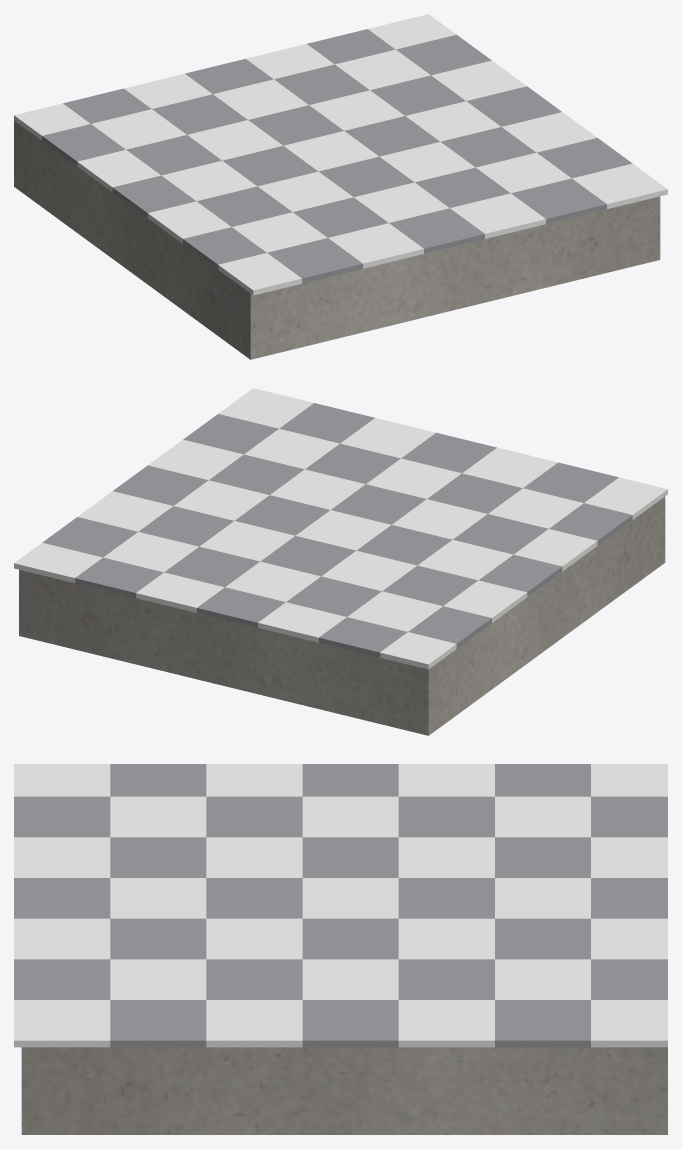
The model's file is floor_tile_g_e30_0_30_0.glb.
3 renders of one model, top to bottom at view 1: azimuth 30°, elevation 25°; view 2: azimuth 150°, elevation 25°; view 3: azimuth 270°, elevation 25°, orthographic. The views are drawn at different scales.
Parts seen in each view (by area): view 1: floor_tile_g_e30_0_30_0_tile, floor_tile_g_e30_0_30_0_slate, floor_tile_g_e30_0_30_0_concrete; view 2: floor_tile_g_e30_0_30_0_tile, floor_tile_g_e30_0_30_0_slate, floor_tile_g_e30_0_30_0_concrete; view 3: floor_tile_g_e30_0_30_0_tile, floor_tile_g_e30_0_30_0_slate, floor_tile_g_e30_0_30_0_concrete.
Boxes of the visible parts, box(x1,y1,x2,y2) form: floor_tile_g_e30_0_30_0_tile: box(14, 14, 667, 295); floor_tile_g_e30_0_30_0_slate: box(42, 29, 632, 283); floor_tile_g_e30_0_30_0_concrete: box(14, 120, 660, 359); floor_tile_g_e30_0_30_0_tile: box(14, 388, 667, 669); floor_tile_g_e30_0_30_0_slate: box(42, 403, 632, 657); floor_tile_g_e30_0_30_0_concrete: box(19, 496, 665, 735); floor_tile_g_e30_0_30_0_tile: box(14, 764, 667, 1047); floor_tile_g_e30_0_30_0_slate: box(14, 764, 667, 1047); floor_tile_g_e30_0_30_0_concrete: box(21, 1047, 667, 1134).
Size of the model in its own units: 1.7 by 0.28 by 1.7.
Materials: 3 (1 with a texture image).
